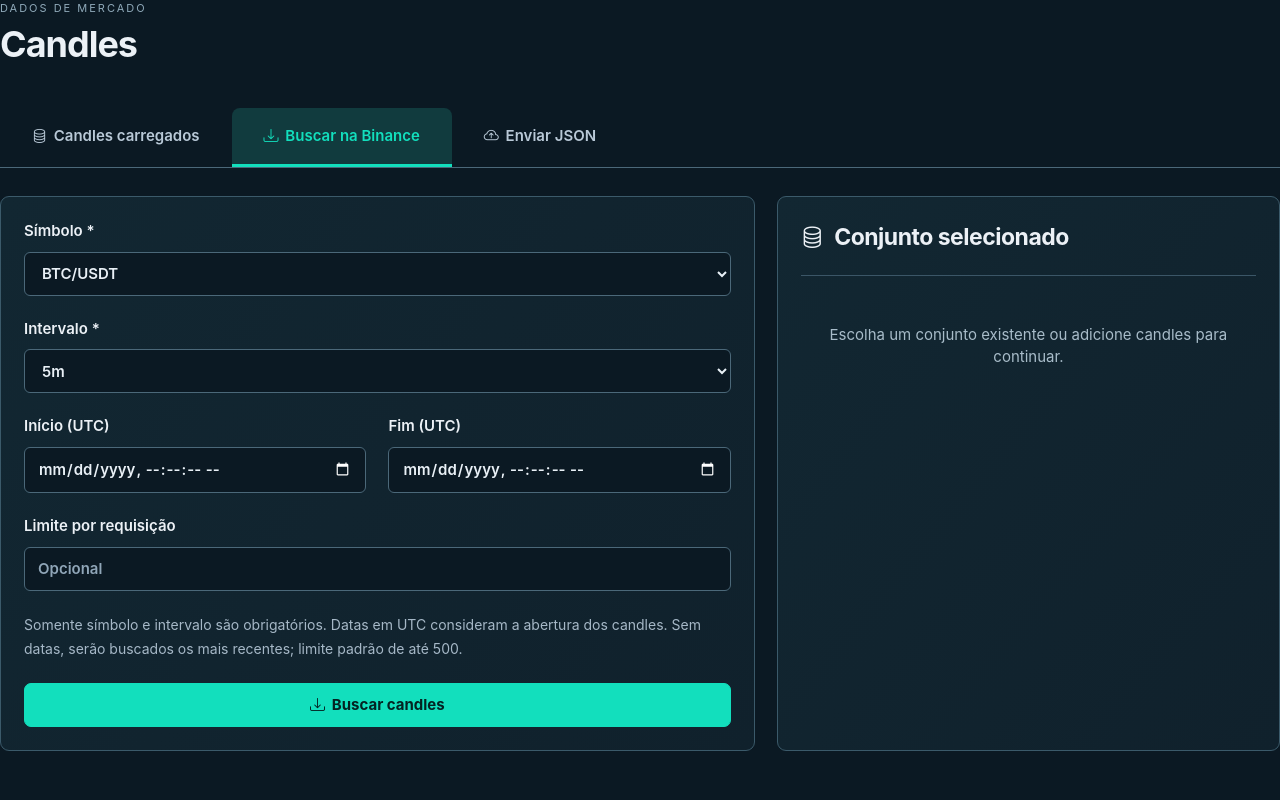
Test: mantém a confirmação desabilitada durante a consulta e encontra sessões nas páginas seguintes
Later steps or results of the test are not shown.
Click the tab "Candles carregados". click: coordinates (116, 137)
box: [0,108,232,167]
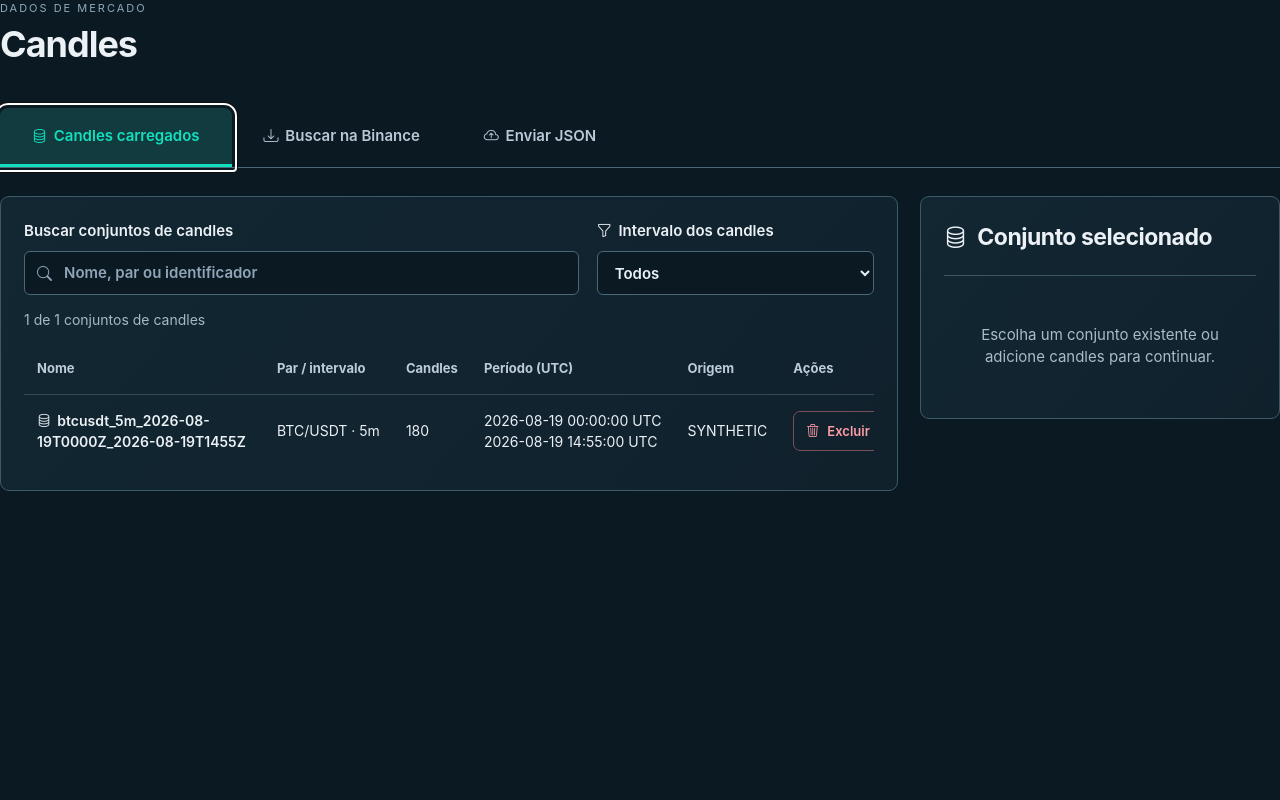
Click the button "Excluir". click: coordinates (838, 431)
box: [793,411,883,451]
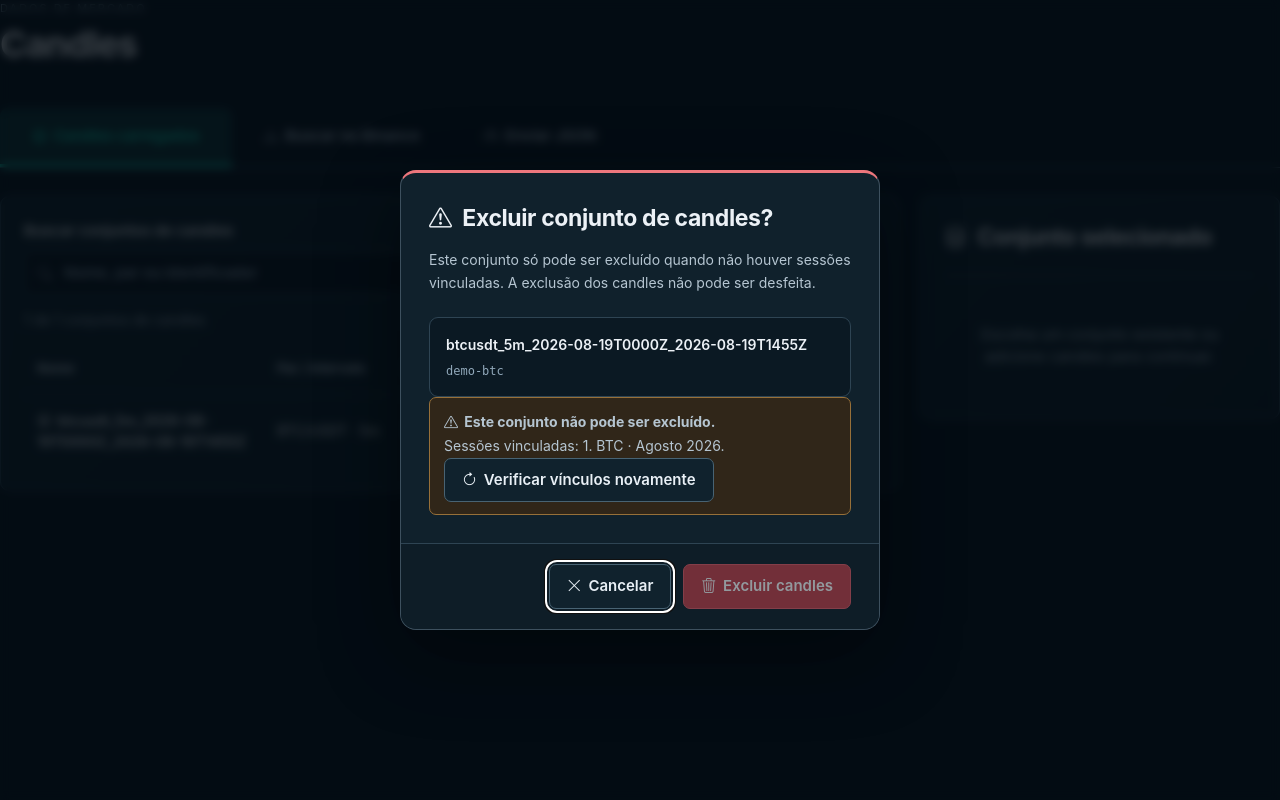
Check: the message shows "BTC · Agosto 2026", box [596,437,720,454]
Check: the button "Excluir candles" is disabled, box [683,564,851,609]
